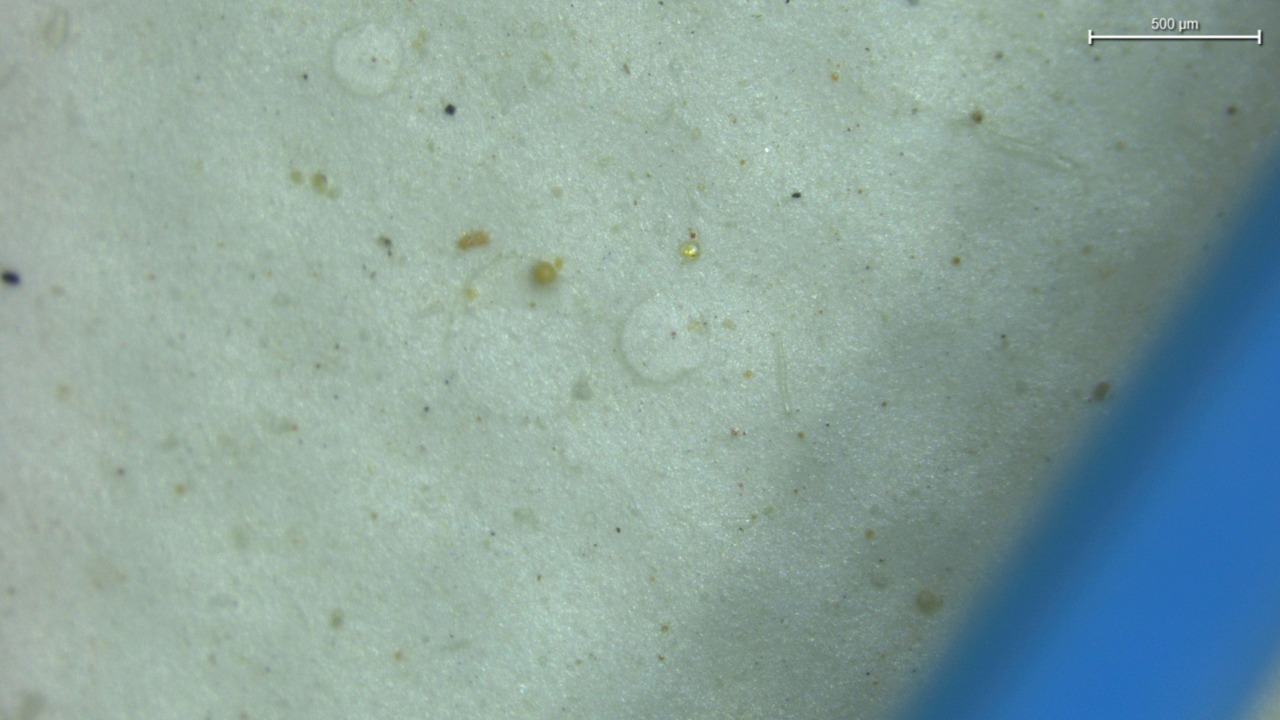microplastic_fragment: (682, 245, 698, 259)
